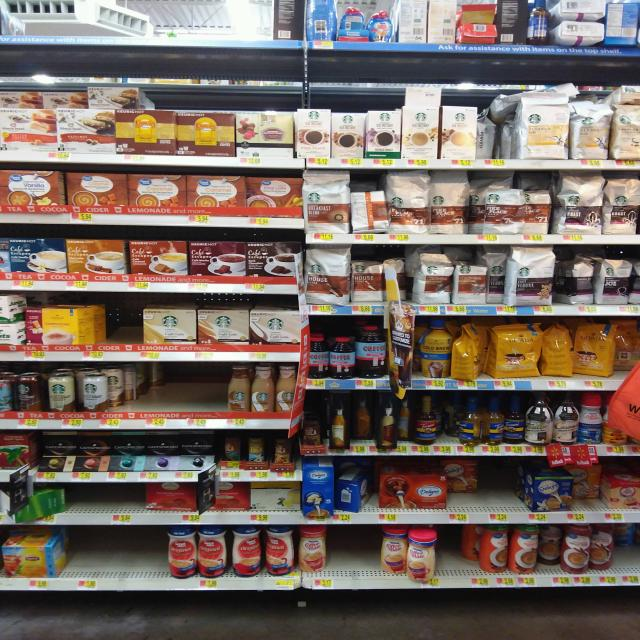empty: (9, 1, 283, 47), (40, 521, 171, 581), (147, 358, 228, 417), (63, 477, 158, 519), (325, 529, 386, 581), (477, 453, 527, 508), (94, 292, 139, 352), (438, 523, 476, 577)
